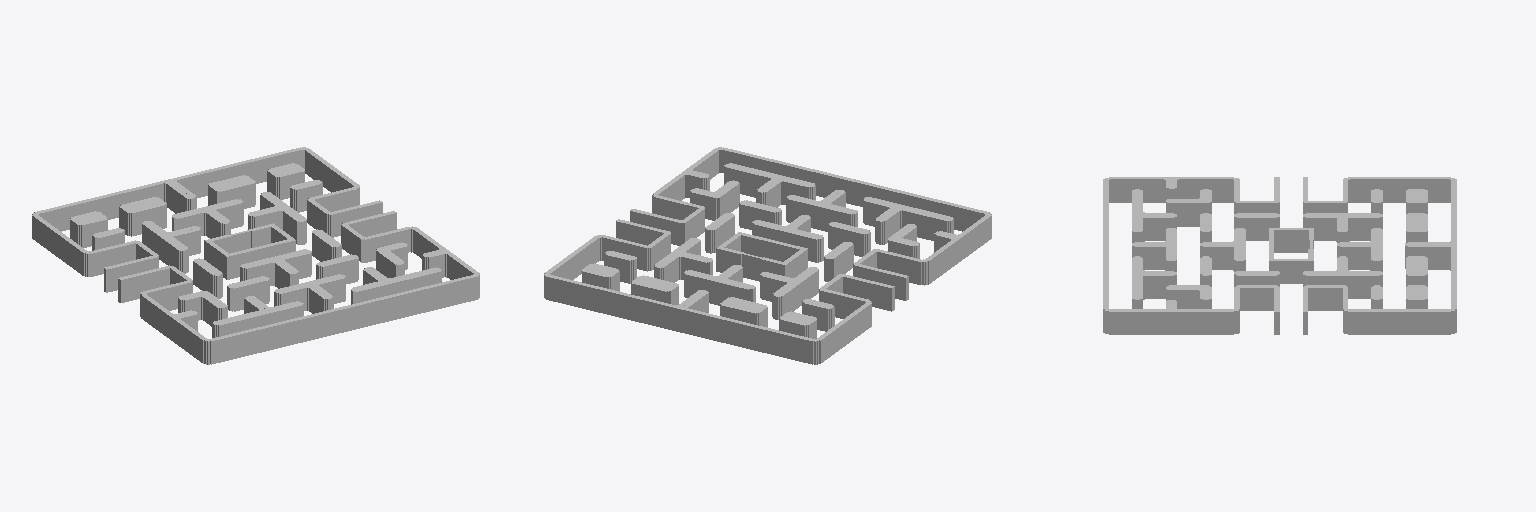
File: board2.obj
3 views of the same model, side by side, from view 1: azimuth 30°, elevation 25°; view 2: azimuth 150°, elevation 25°; view 3: azimuth 270°, elevation 25° (orthographic).
Parts seen in each view (by area): view 1: polySurface253; view 2: polySurface253; view 3: polySurface253.
Boxes of the visible parts, x1,y1,x2,y2 form: polySurface253: [32, 147, 479, 364]; polySurface253: [544, 147, 991, 364]; polySurface253: [1103, 177, 1456, 334].
Size of the model in its own units: 2.24 by 0.18 by 2.48.